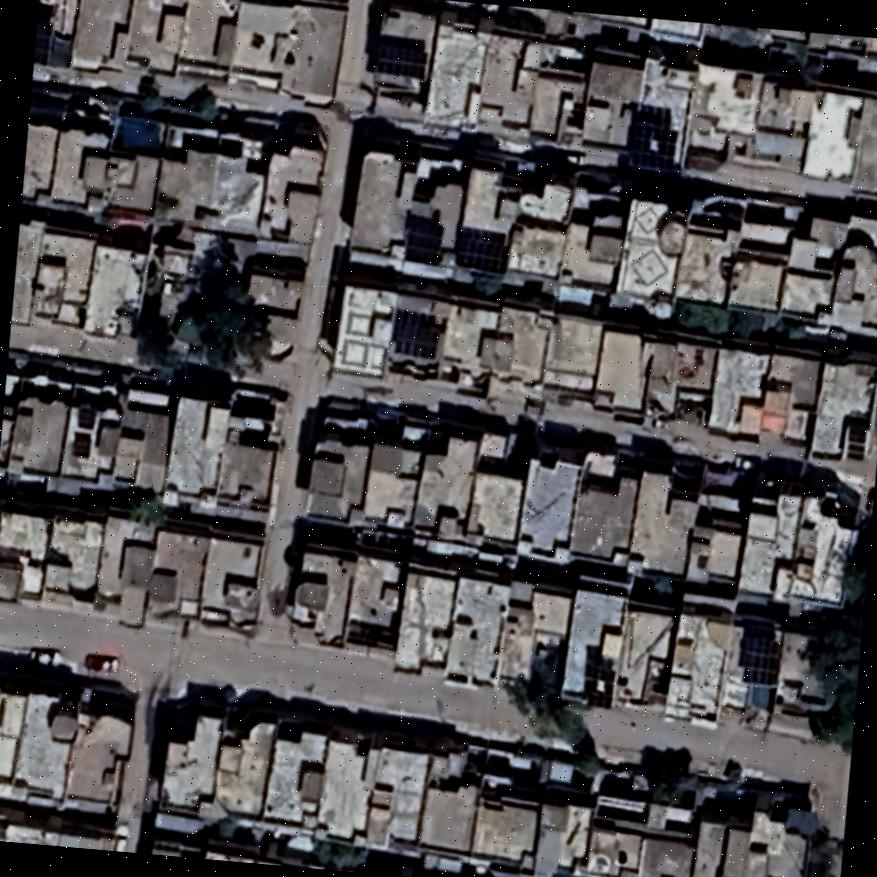Solarpanel: (619, 111, 678, 178), (446, 223, 508, 277), (381, 309, 444, 361), (361, 36, 429, 81), (732, 626, 780, 689), (397, 209, 445, 266), (31, 15, 55, 66)
